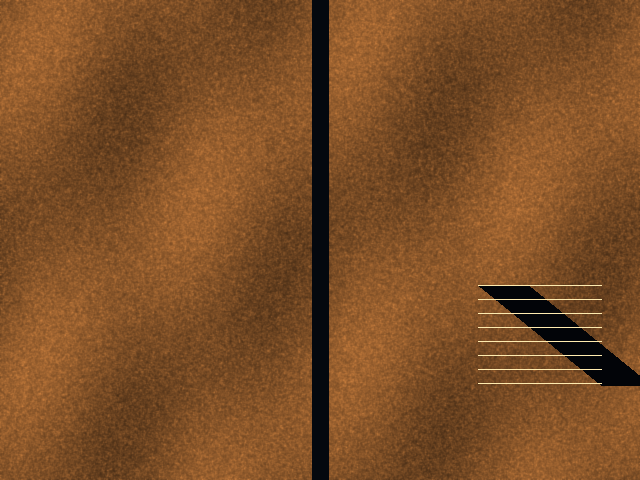Fishing Net: (478, 285, 601, 385)
